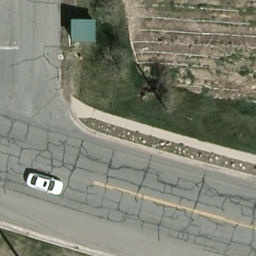car: (26, 168, 66, 199)
